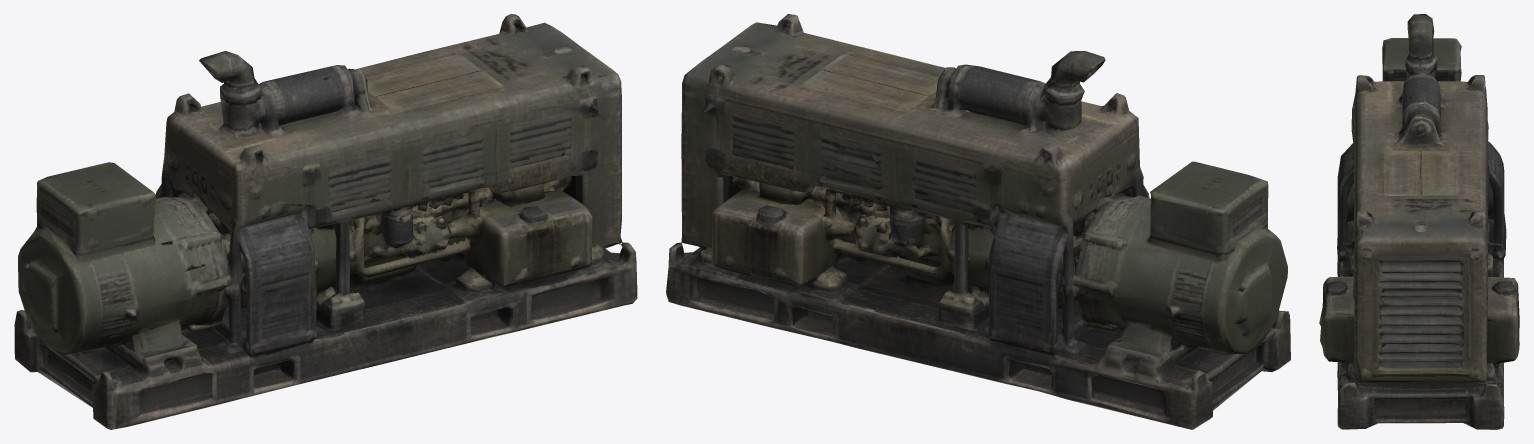
The model's file is candidate.glb.
3 renders of one model, left to right at view 1: azimuth 30°, elevation 25°; view 2: azimuth 150°, elevation 25°; view 3: azimuth 270°, elevation 25°, orthographic. The views are drawn at different scales.
Visible parts, largest first — view 1: BunkerDieselGenerator; view 2: BunkerDieselGenerator; view 3: BunkerDieselGenerator.
Boxes of the visible parts, x1,y1,x2,y2 form: BunkerDieselGenerator: (14,14,637,429); BunkerDieselGenerator: (666,14,1290,429); BunkerDieselGenerator: (1319,14,1519,429).
Bounding box in the file's own units: 3.2 × 1.69 × 1.19.
Materials: 1 (1 with a texture image).
